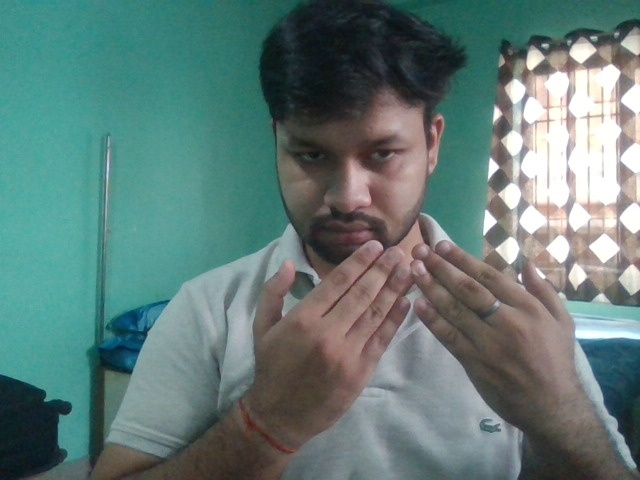Thank You: (245, 242, 589, 434)
